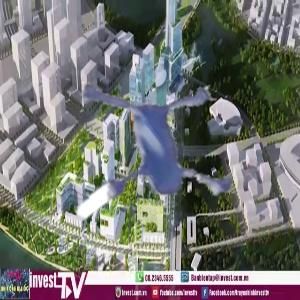drone: (11, 32, 261, 282)
